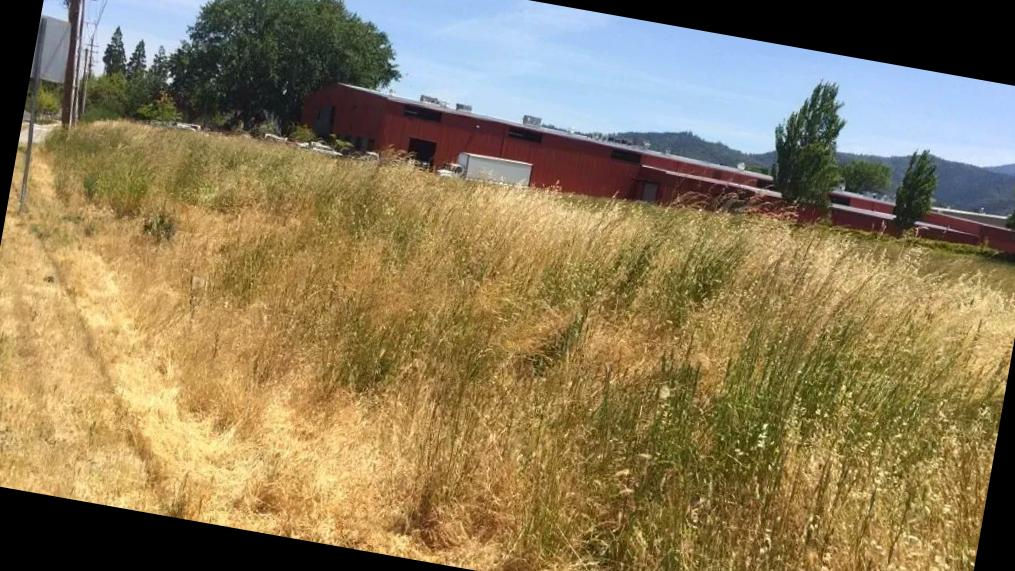overgrown grass: (48, 116, 1015, 571)
